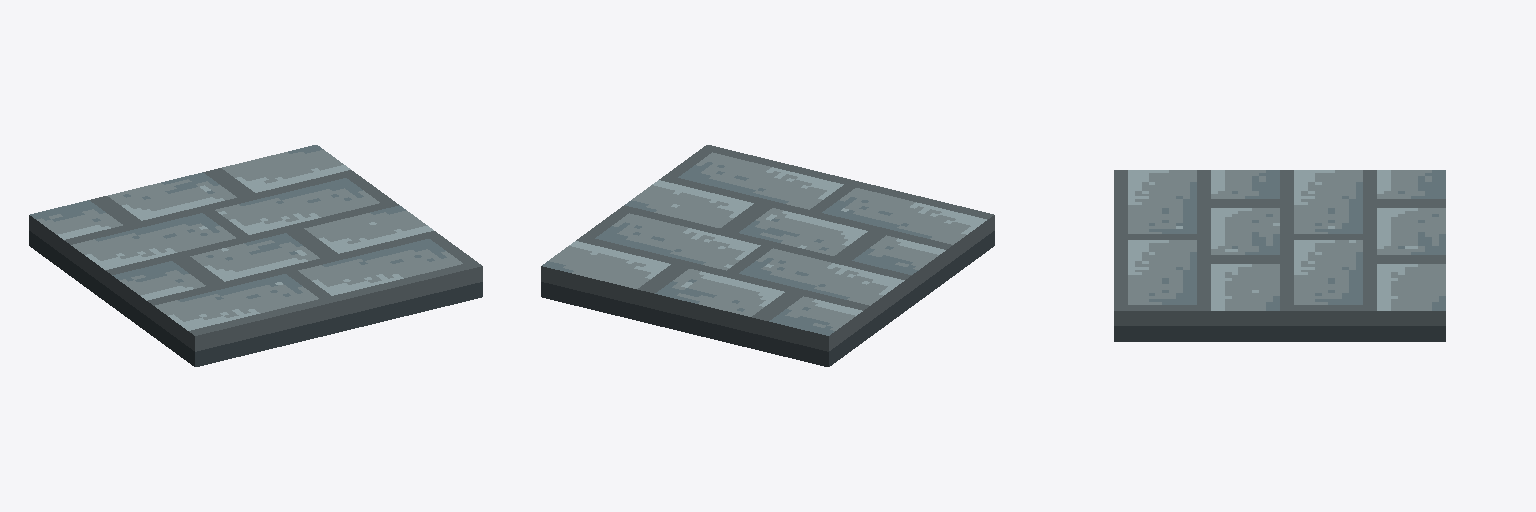
The picture shows the model from 3 angles: view 1: azimuth 30°, elevation 25°; view 2: azimuth 150°, elevation 25°; view 3: azimuth 270°, elevation 25°; orthographic projection.
Parts seen in each view (by area): view 1: cube; view 2: cube; view 3: cube.
Part boxes in pixels (left/top/right/bottom): cube: left=29, top=145, right=482, bottom=366; cube: left=541, top=145, right=994, bottom=366; cube: left=1114, top=170, right=1445, bottom=341.
Size of the model in its own units: 3 by 0.3125 by 3.
1 materials, 1 textured.